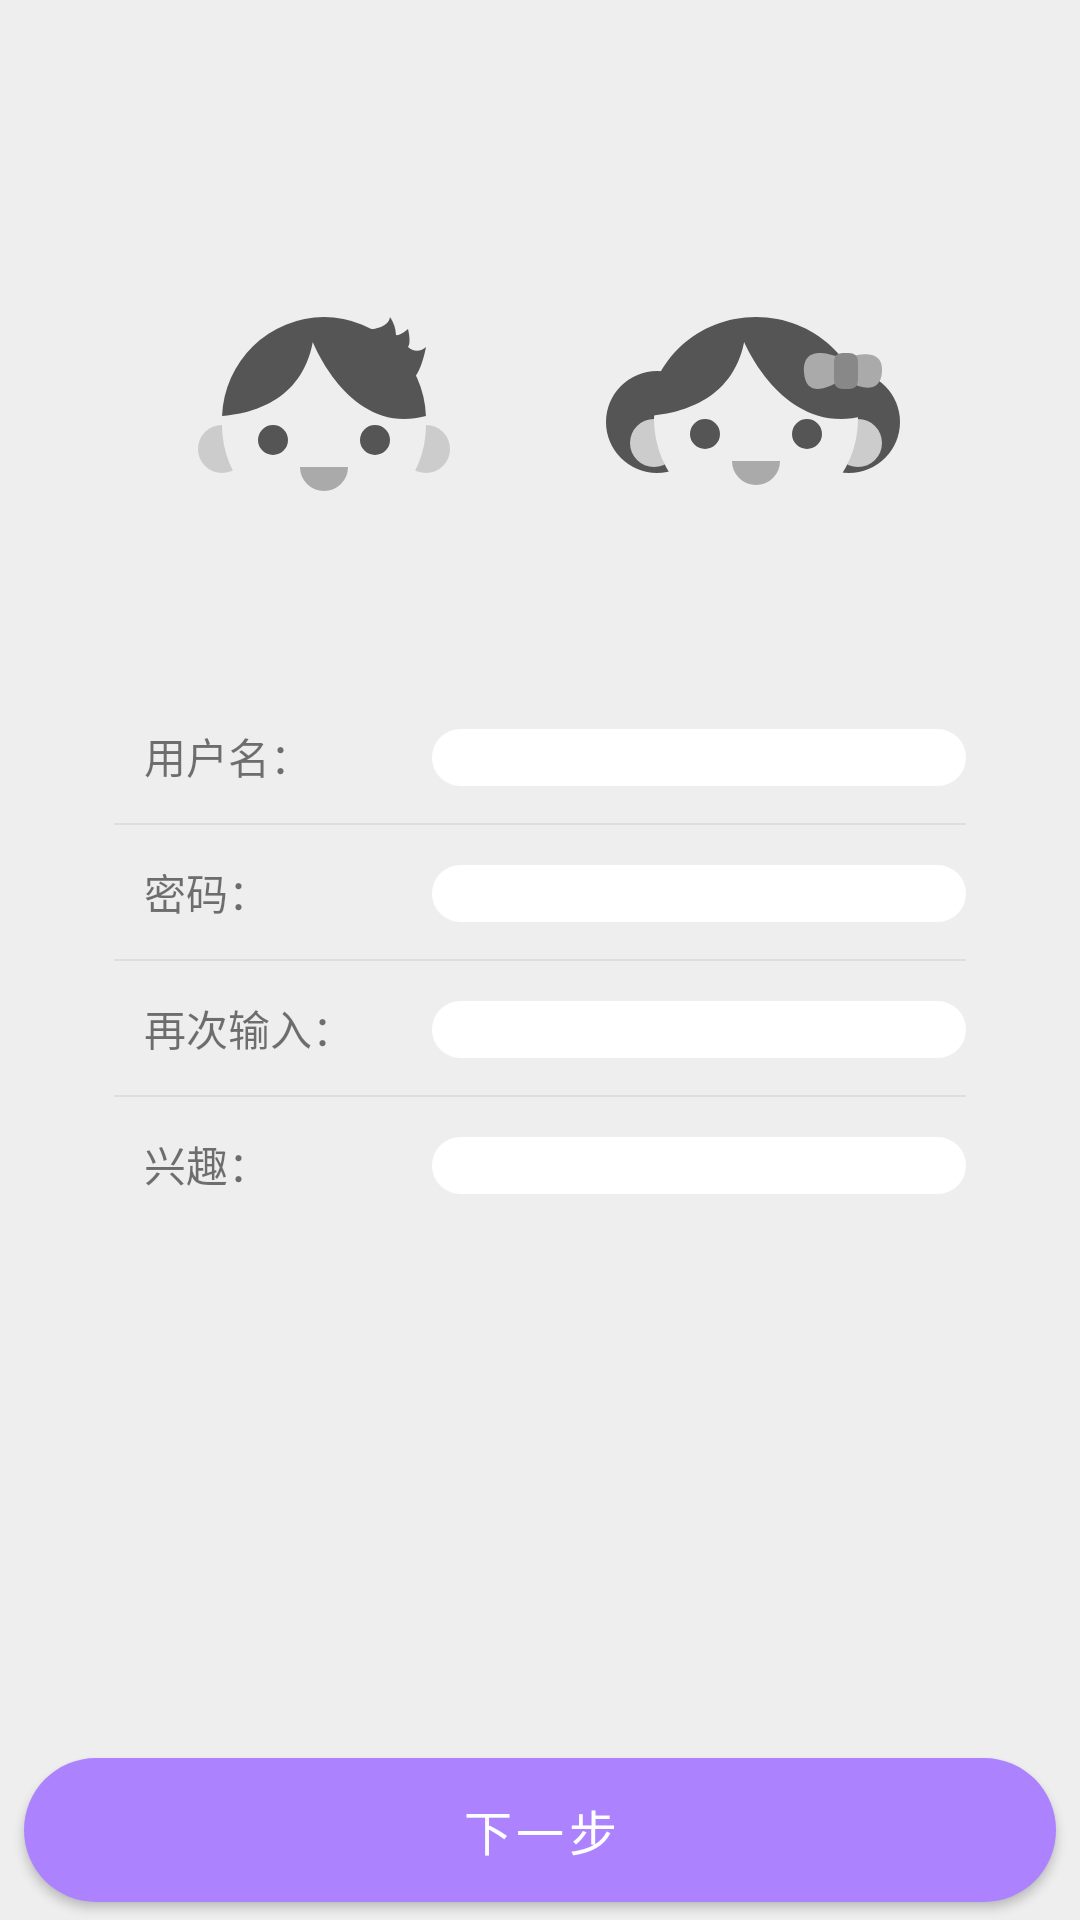

Named icons in this screenshot (1080 x 1920) and their centers, [x,y]:
radio female: [753,401]
radio male: [324,404]
